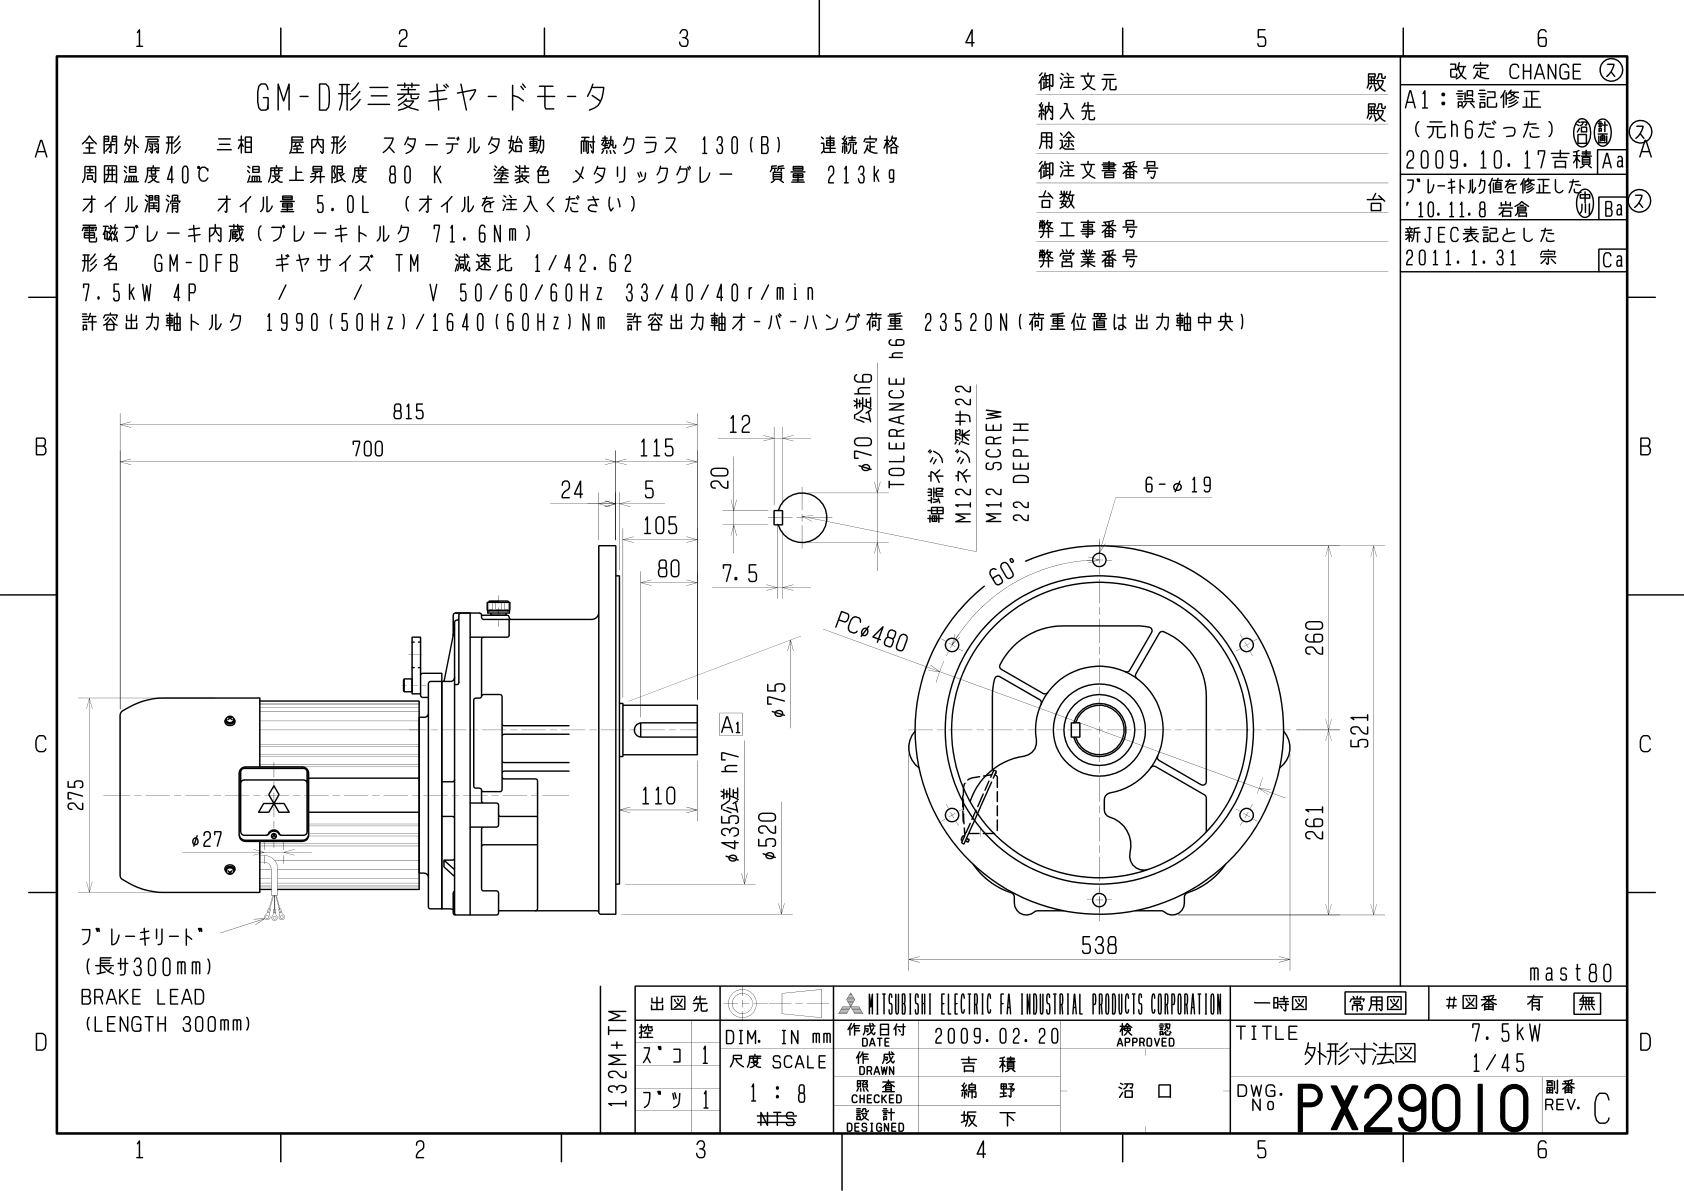GM_D_屋内＿三相_フランジ: (58, 335, 1389, 971)
